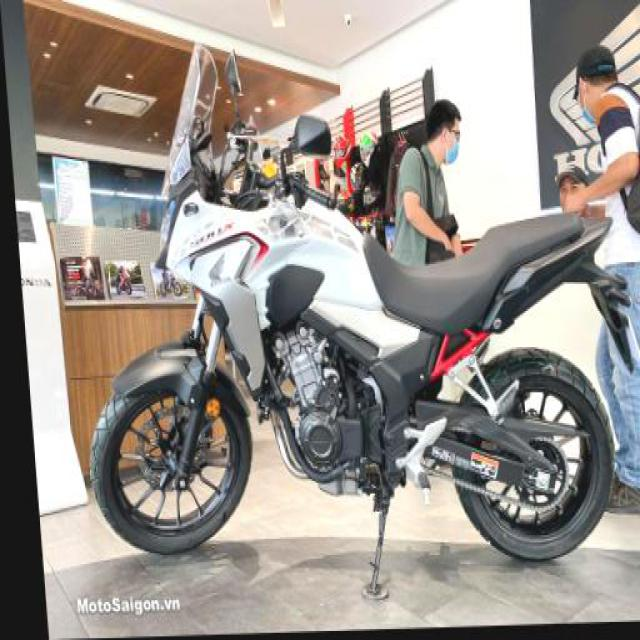CB500X: (55, 37, 620, 583)
